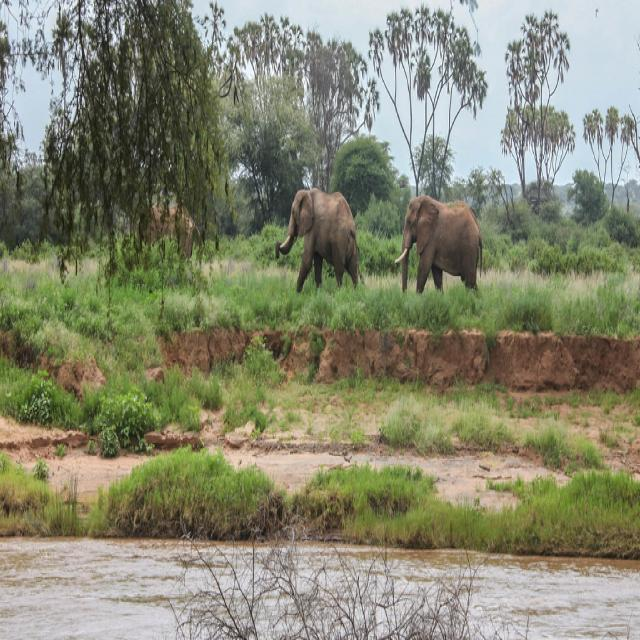elephant: (277, 176, 365, 301), (391, 184, 485, 283)
